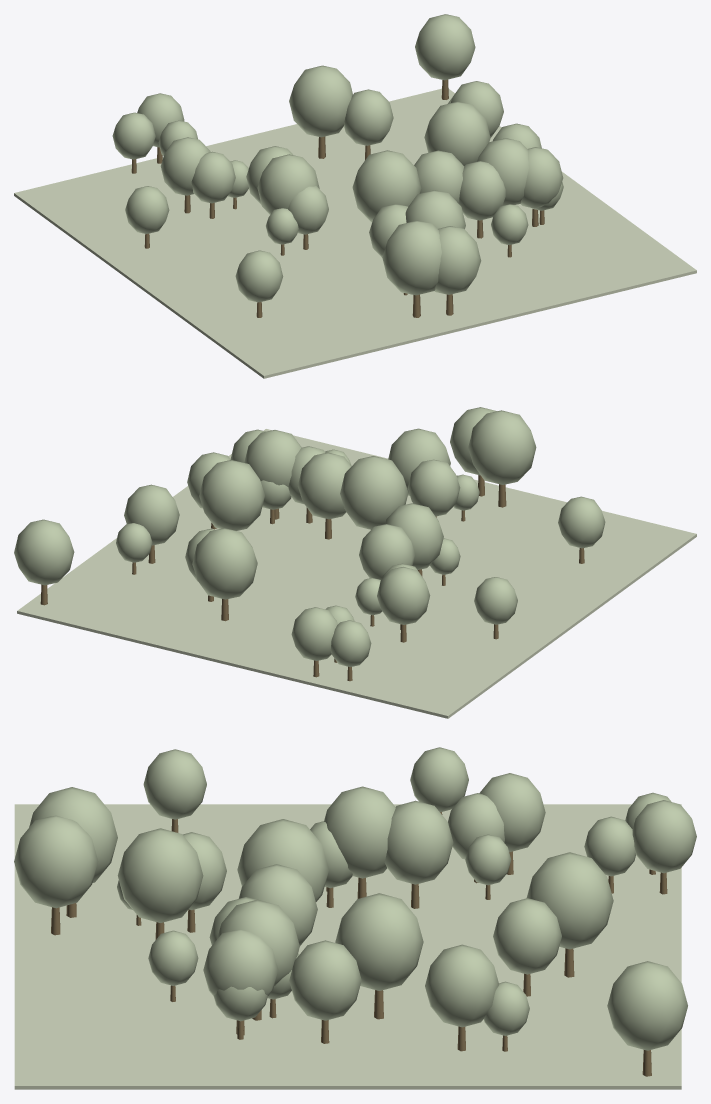
3 renders of one model, top to bottom at view 1: azimuth 30°, elevation 25°; view 2: azimuth 150°, elevation 25°; view 3: azimuth 270°, elevation 25°, orthographic. The views are drawn at different scales.
Visible parts, largest first — view 1: terrain, lod-near-12, lod-near-30, lod-near-13, lod-near-28, lod-near-18, lod-near-24, lod-near-10, lod-near-25, lod-near-16, lod-near-27, lod-near-2 (+16 smaller); view 2: terrain, lod-near-12, lod-near-13, lod-near-18, lod-near-30, lod-near-28, lod-near-31, lod-near-17, lod-near-0, lod-near-27, lod-near-29, lod-near-21 (+15 smaller); view 3: terrain, lod-near-20, lod-near-18, lod-near-24, lod-near-28, lod-near-30, lod-near-0, lod-near-10, lod-near-21, lod-near-9, lod-near-13, lod-near-16 (+17 smaller).
Part boxes in pixels (left/top/right/bottom): terrain: left=14, top=88, right=696, bottom=378; lod-near-12: left=382, top=220, right=441, bottom=295; lod-near-30: left=289, top=65, right=352, bottom=137; lod-near-13: left=352, top=150, right=421, bottom=222; lod-near-28: left=415, top=14, right=475, bottom=80; lod-near-18: left=424, top=101, right=490, bottom=166; lod-near-24: left=434, top=226, right=481, bottom=294; lod-near-10: left=257, top=154, right=319, bottom=214; lod-near-25: left=459, top=161, right=505, bottom=220; lod-near-16: left=344, top=89, right=393, bottom=145; lod-near-27: left=477, top=138, right=528, bottom=205; lod-near-2: left=235, top=250, right=283, bottom=302; terrain: left=17, top=429, right=696, bottom=718; lod-near-12: left=468, top=410, right=536, bottom=484; lod-near-13: left=340, top=456, right=408, bottom=529; lod-near-18: left=199, top=460, right=264, bottom=530; lod-near-30: left=192, top=528, right=257, bottom=599; lod-near-28: left=14, top=519, right=74, bottom=585; lod-near-31: left=297, top=452, right=351, bottom=519; lod-near-17: left=377, top=567, right=430, bottom=624; lod-near-0: left=124, top=484, right=179, bottom=545; lod-near-27: left=244, top=430, right=301, bottom=486; lod-near-29: left=407, top=459, right=460, bottom=516; lod-near-21: left=359, top=524, right=415, bottom=579; terrain: left=14, top=804, right=681, bottom=1089; lod-near-20: left=117, top=828, right=203, bottom=922; lod-near-18: left=335, top=893, right=423, bottom=990; lod-near-24: left=14, top=815, right=98, bottom=908; lod-near-28: left=607, top=961, right=687, bottom=1050; lod-near-30: left=526, top=852, right=613, bottom=949; lod-near-0: left=425, top=944, right=499, bottom=1027; lod-near-10: left=324, top=786, right=395, bottom=878; lod-near-21: left=384, top=800, right=453, bottom=884; lod-near-9: left=289, top=940, right=361, bottom=1020; lod-near-13: left=237, top=819, right=328, bottom=901; lod-near-16: left=493, top=898, right=561, bottom=974.
Bounding box in the file's own units: 32.87 × 6.97 × 32.78.
